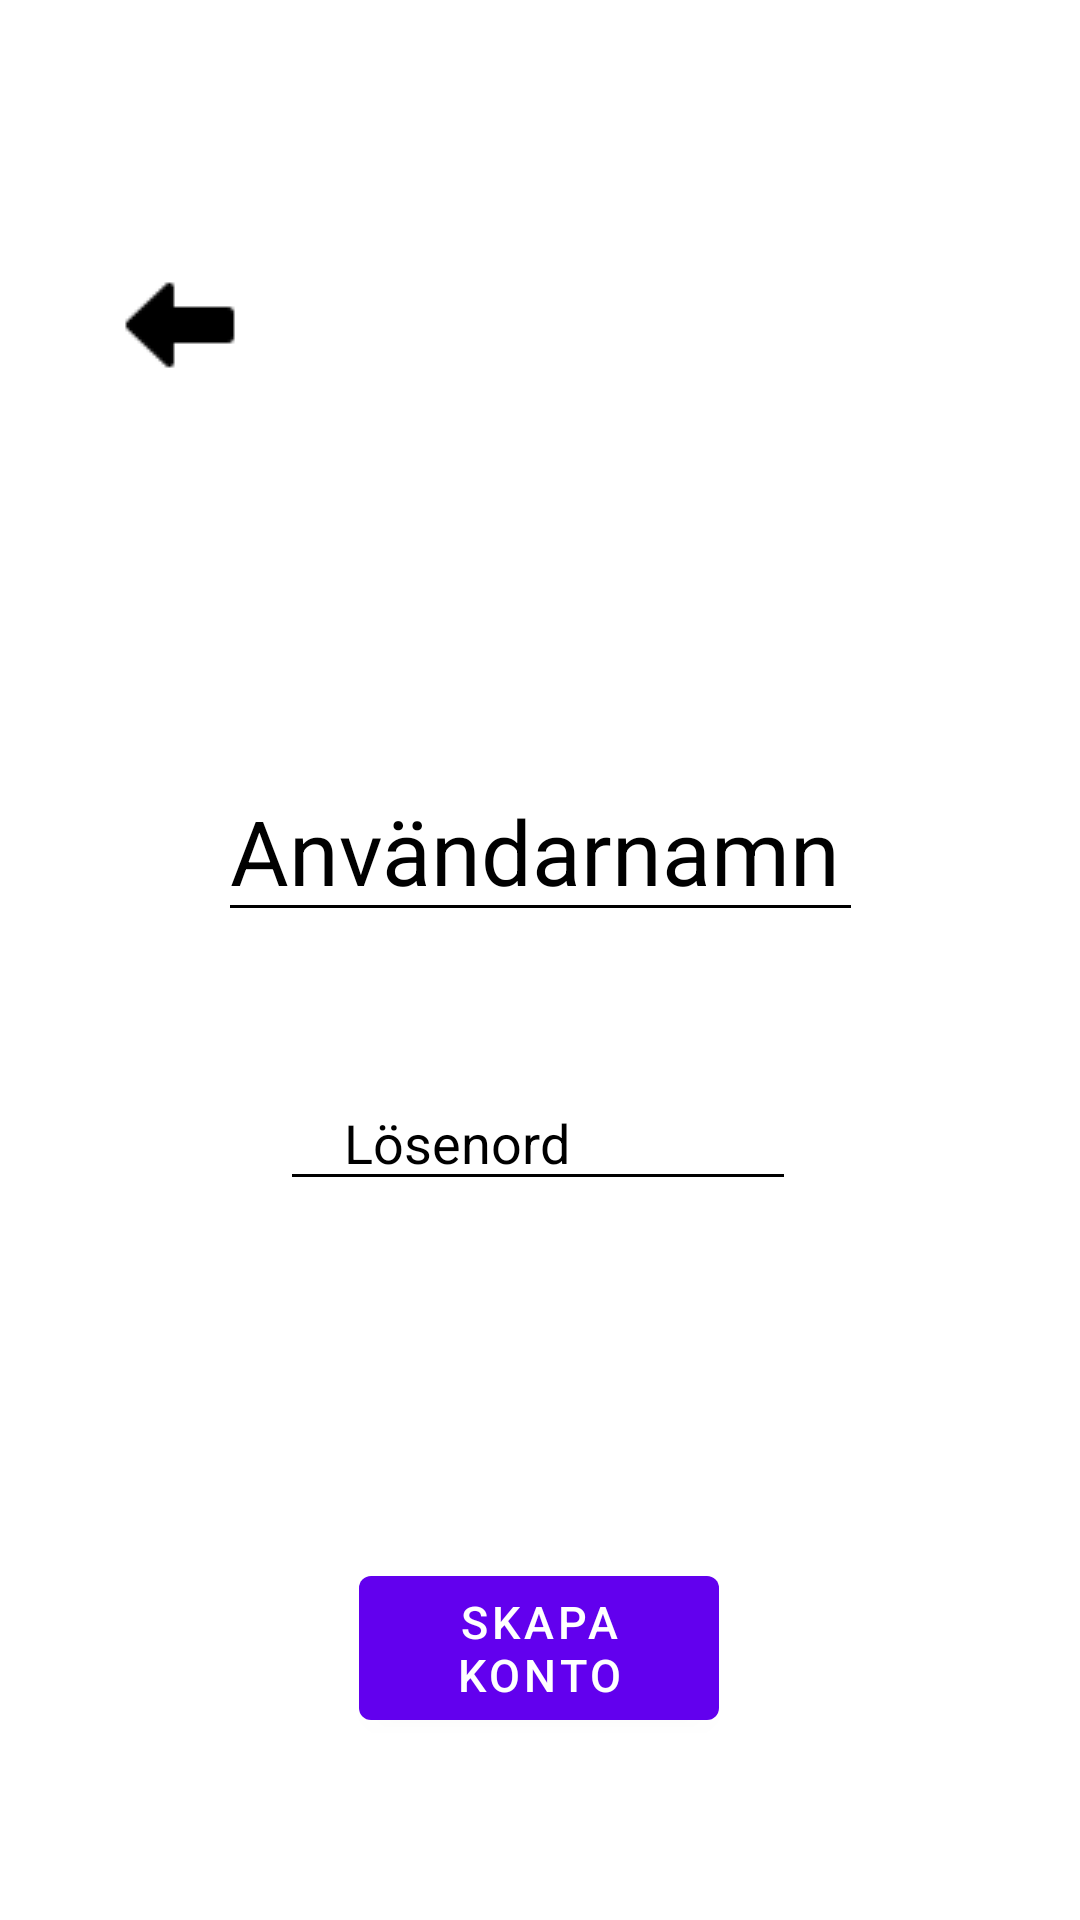

Icons on this 1080*1920 Android screen, each with the point to tap as (x,y):
arrow: (180,325)
